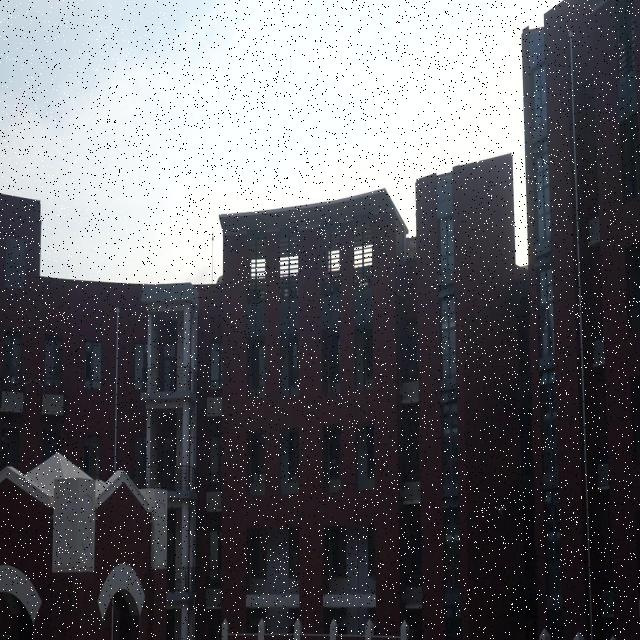UAV: (495, 506, 506, 514)
